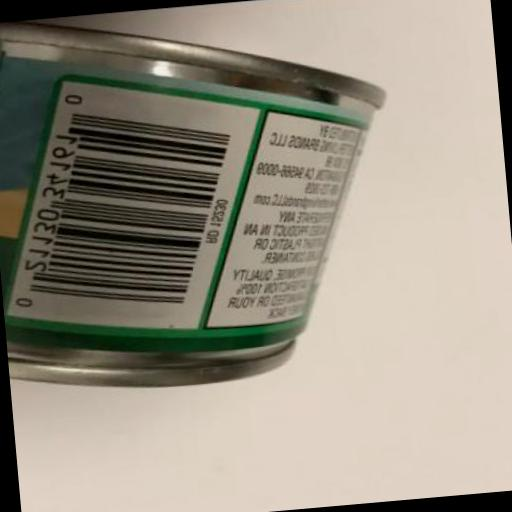metal: (0, 0, 411, 402)
